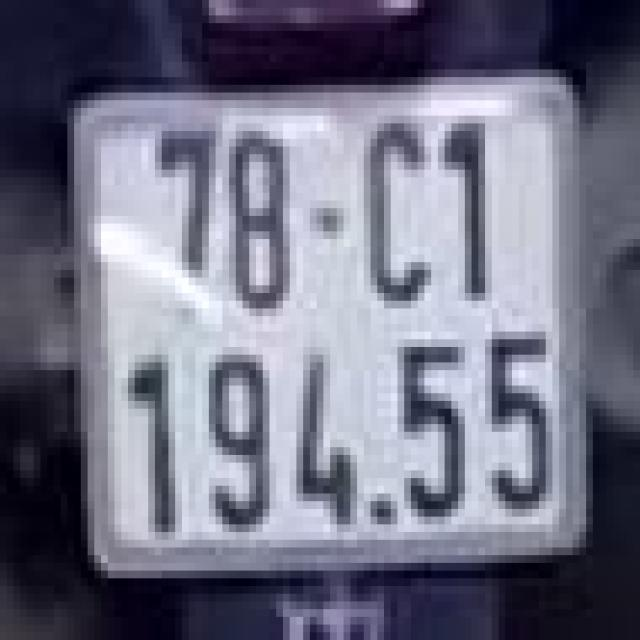0: (438, 108, 505, 308)
1: (111, 339, 192, 540)
4: (293, 332, 360, 532)
5: (387, 336, 475, 520), (482, 324, 562, 516)
7: (148, 108, 222, 308)
8: (216, 124, 303, 316)
9: (198, 335, 280, 559)
C: (354, 112, 434, 312)
